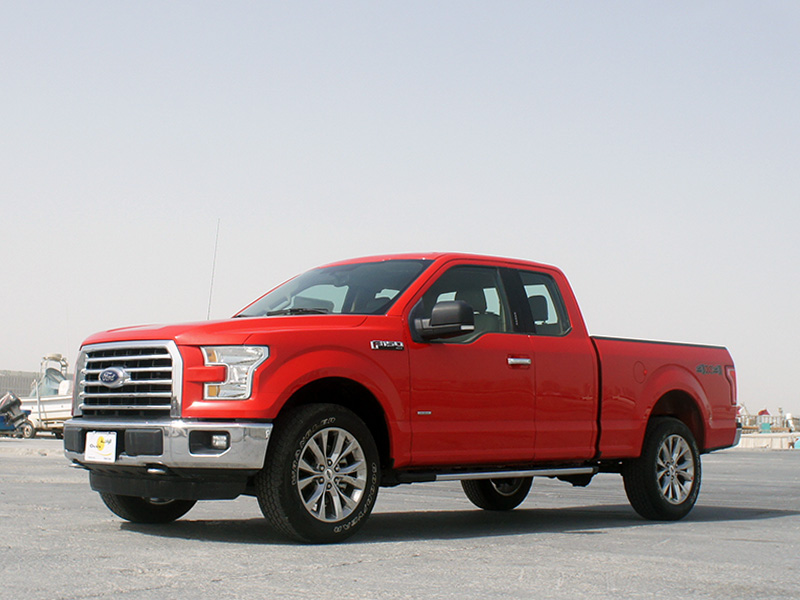other: (66, 241, 747, 542)
